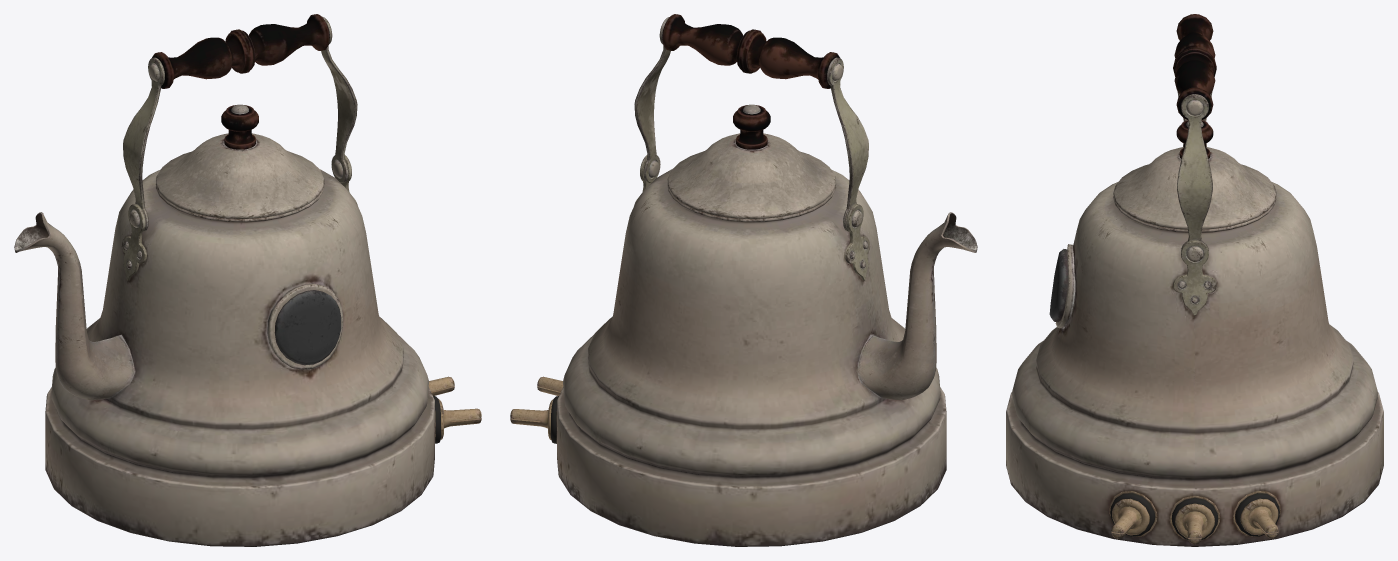
File: vintage_electric_kettle.glb
3 views of the same model, side by side, from view 1: azimuth 30°, elevation 25°; view 2: azimuth 150°, elevation 25°; view 3: azimuth 270°, elevation 25° (orthographic). The views are drawn at different scales.
Visible parts, largest first — view 1: vintage_electric_kettle; view 2: vintage_electric_kettle; view 3: vintage_electric_kettle.
Boxes of the visible parts, left/top/right/bottom form: vintage_electric_kettle: left=14, top=14, right=481, bottom=546; vintage_electric_kettle: left=510, top=14, right=977, bottom=546; vintage_electric_kettle: left=1006, top=14, right=1383, bottom=546.
Bounding box in the file's own units: 0.3209 × 0.3047 × 0.2486.
2 materials, 2 textured.
